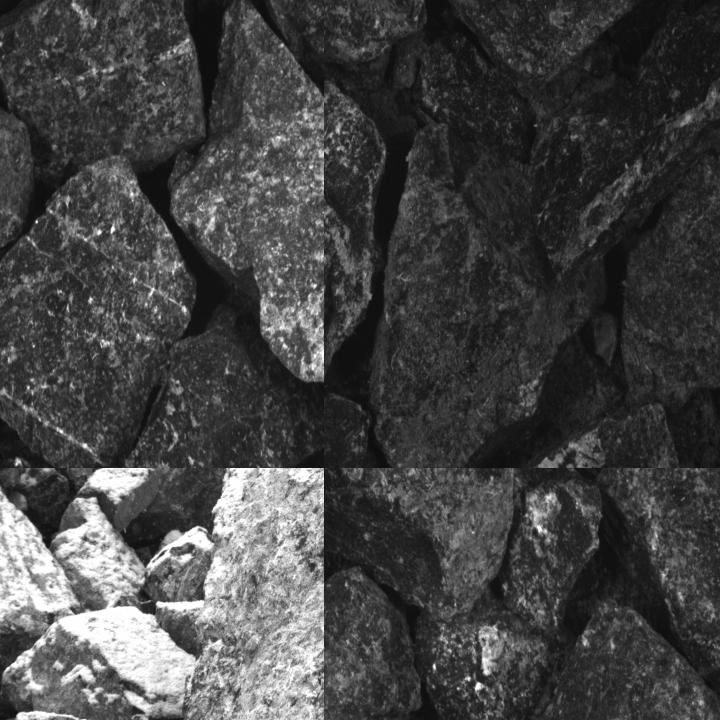stone: (371, 123, 608, 467), (167, 0, 323, 410), (0, 154, 199, 467), (527, 0, 719, 279), (147, 468, 323, 719), (0, 0, 207, 191), (436, 594, 719, 719), (119, 299, 323, 467), (594, 468, 719, 702), (324, 468, 514, 621), (324, 33, 388, 451), (621, 151, 719, 407), (427, 0, 674, 95), (0, 605, 194, 719), (412, 595, 577, 719), (407, 403, 693, 467), (0, 468, 78, 699), (497, 468, 601, 636), (324, 564, 423, 719), (415, 32, 532, 159), (0, 30, 36, 257), (324, 0, 427, 68), (65, 468, 161, 530), (265, 0, 323, 96), (145, 526, 210, 604), (591, 312, 618, 362)
